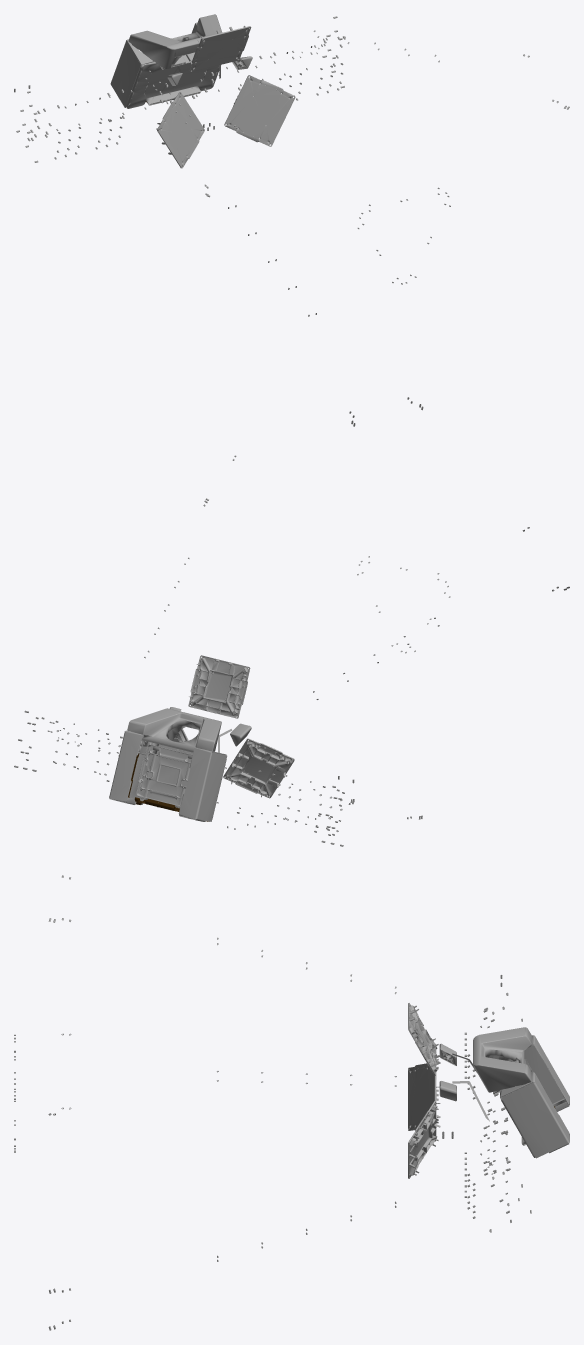
3 renders of one model, top to bottom at view 1: azimuth 30°, elevation 25°; view 2: azimuth 150°, elevation 25°; view 3: azimuth 270°, elevation 25°, orthographic. The views are drawn at different scales.
Parts seen in each view (by area): view 1: node; view 2: node; view 3: node.
Part boxes in pixels (box(x1,y1,x2,y2)): node: box(14, 14, 569, 426); node: box(14, 455, 569, 846); node: box(14, 875, 569, 1330).
Size of the model in its own units: 0.9893 by 1.18 by 0.8408.
